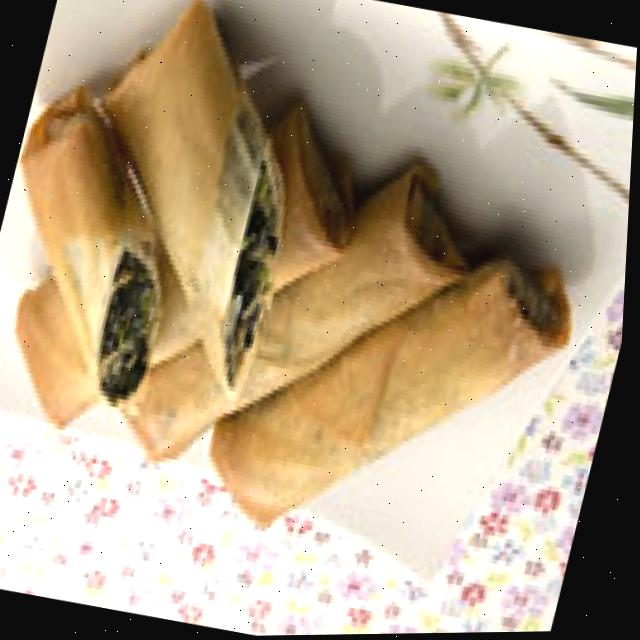鸡蛋料理: (0, 0, 635, 591)
